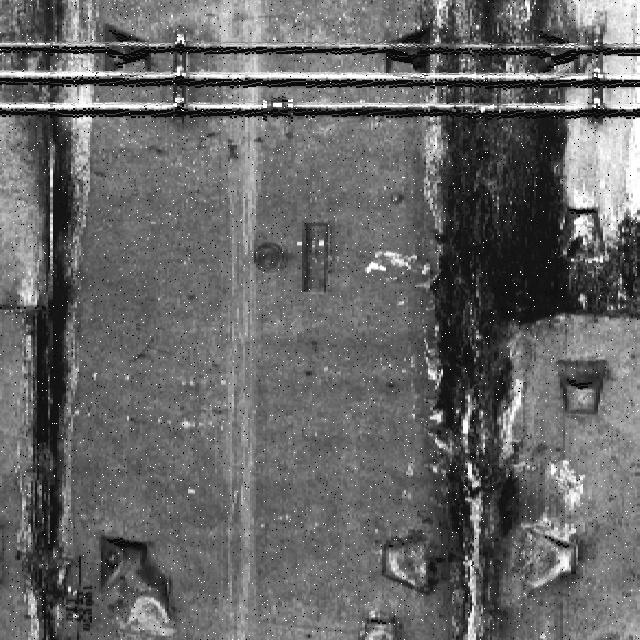leakage: (410, 1, 639, 640), (3, 4, 113, 640)
